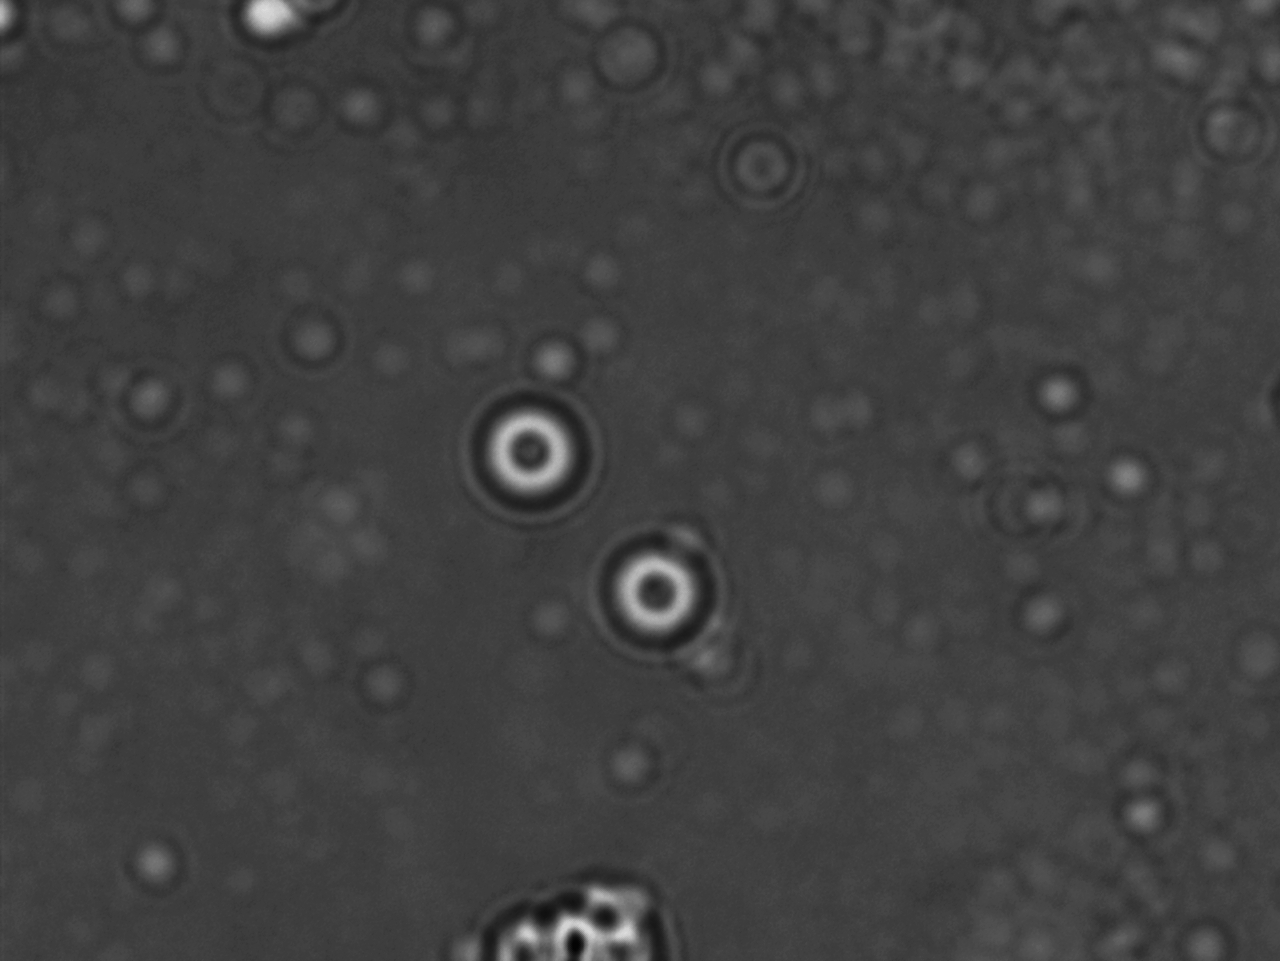depth:16: (455, 382, 601, 521), (589, 522, 731, 662)
